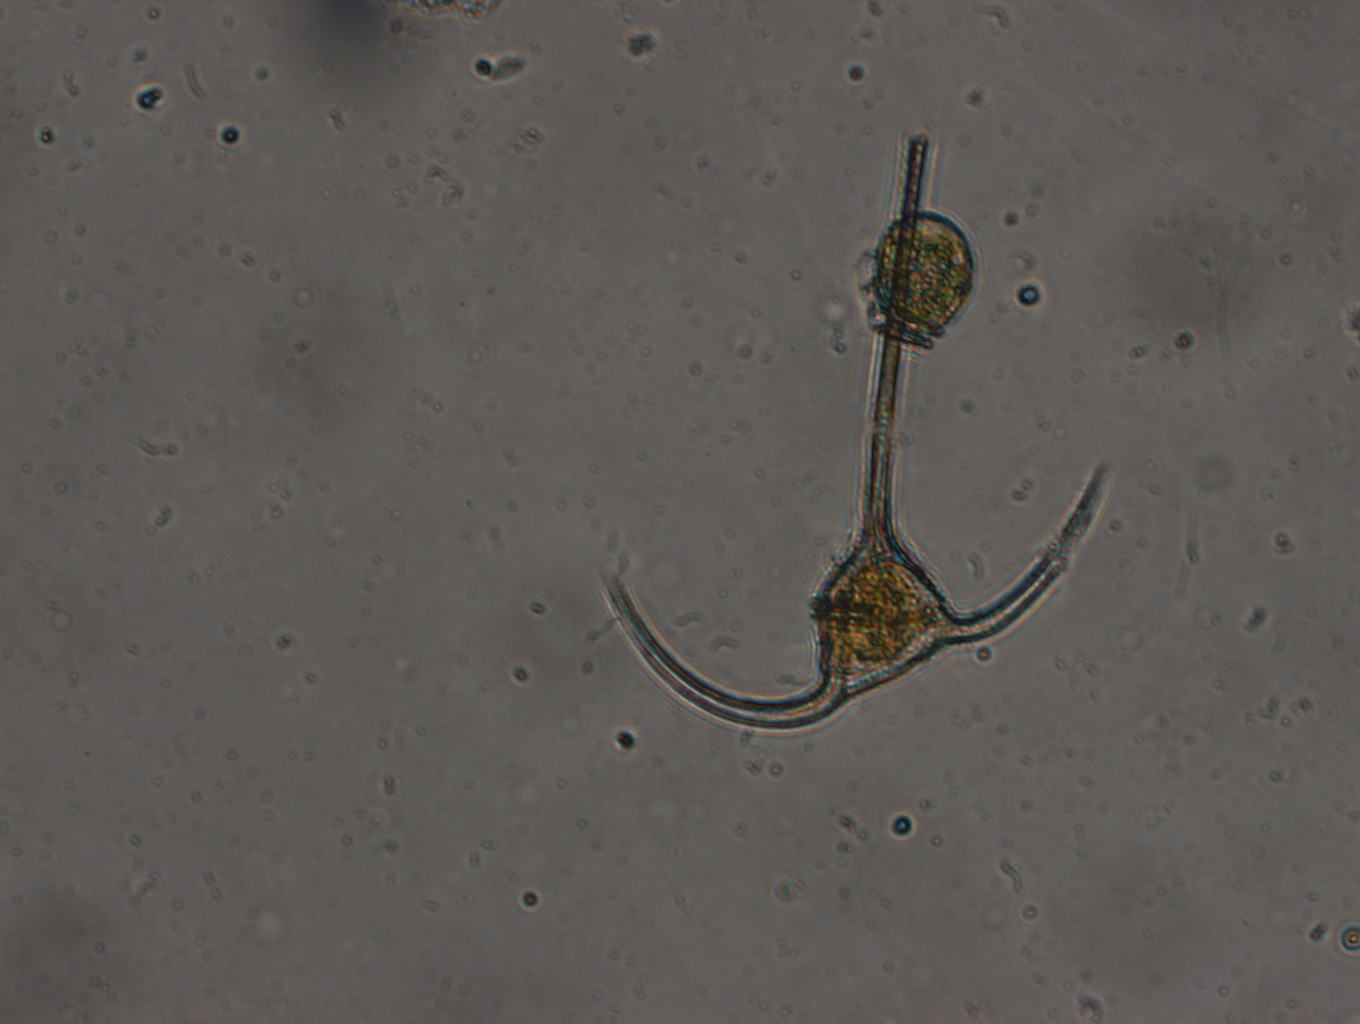ceratium trichoceros: (599, 129, 1112, 734)
